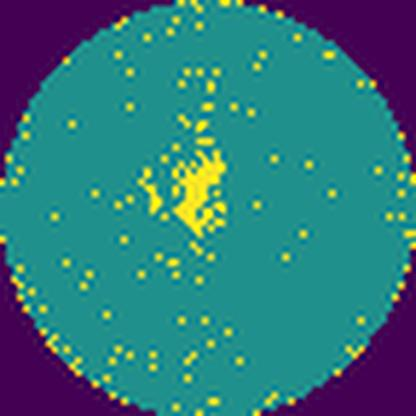Center: (172, 148, 232, 238)
